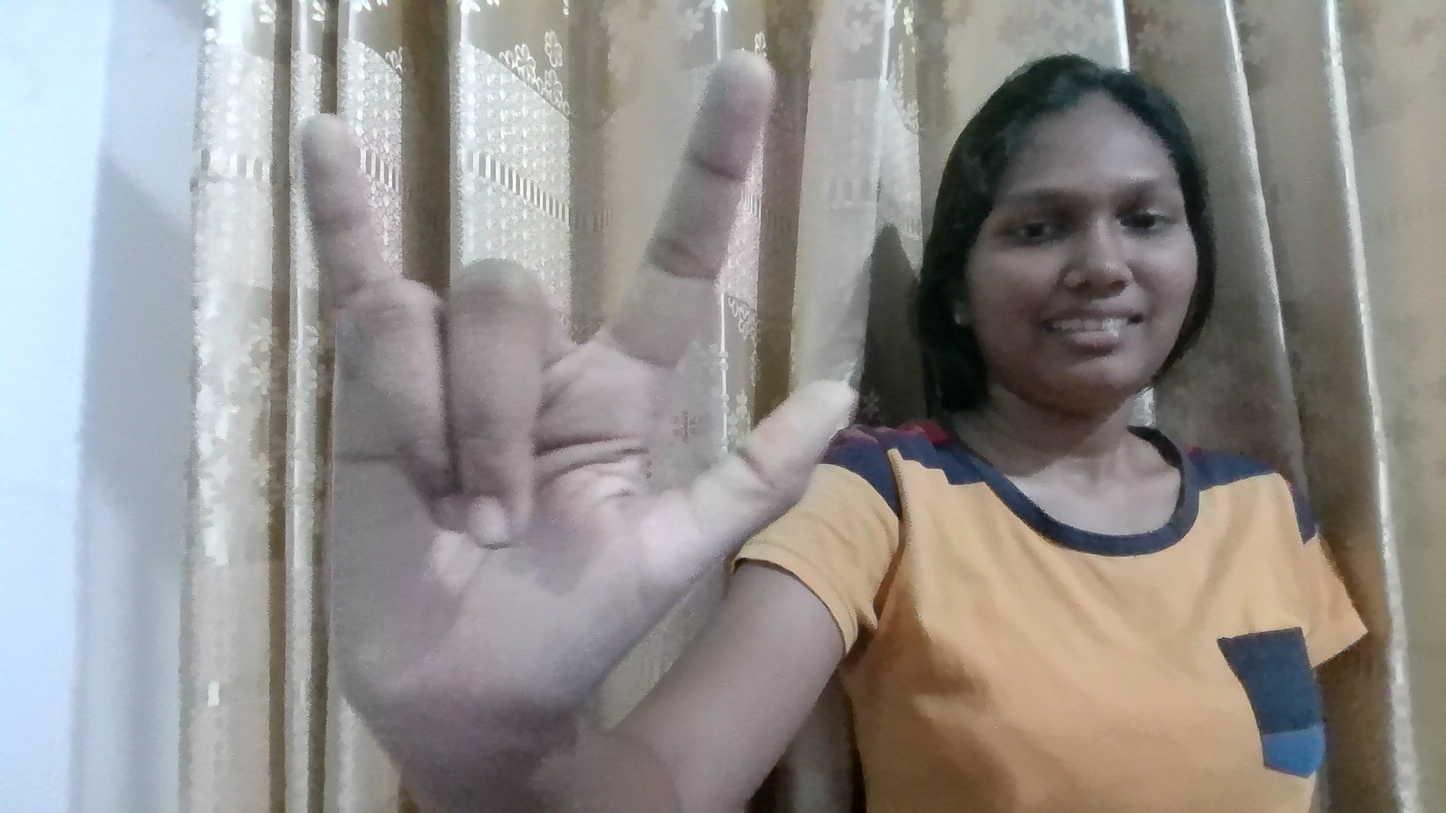I Love You: (265, 110, 878, 734)
